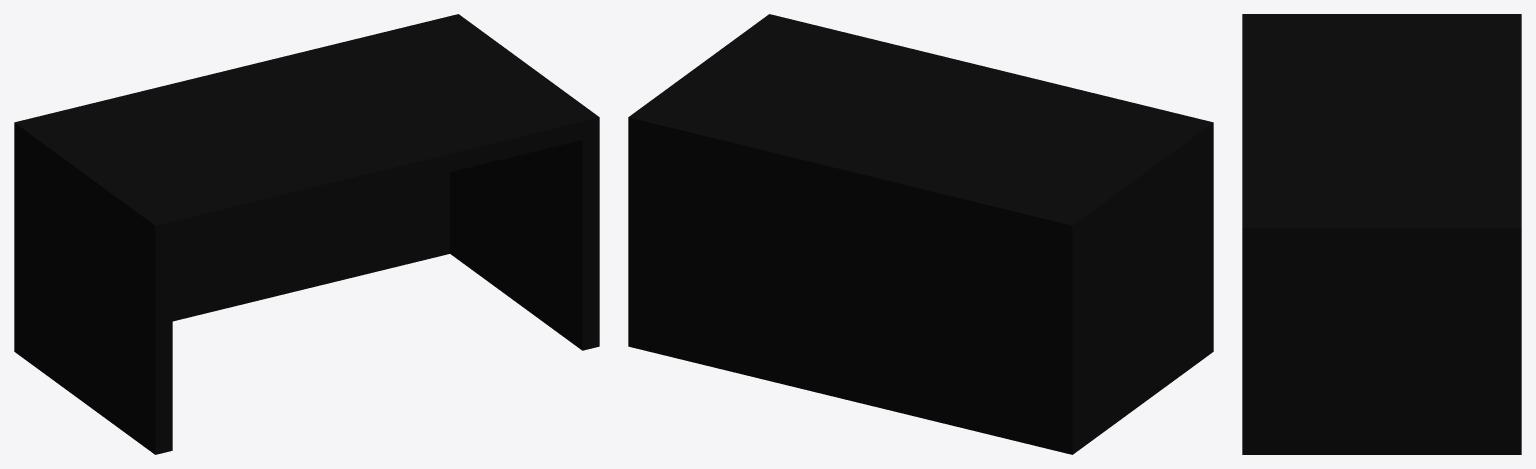
The model's file is Itr_Wardrobe2_Body1_05.FBX.
3 renders of one model, left to right at view 1: azimuth 30°, elevation 25°; view 2: azimuth 150°, elevation 25°; view 3: azimuth 270°, elevation 25°, orthographic.
Parts seen in each view (by area): view 1: Itr_Wardrobe2_Body1_05; view 2: Itr_Wardrobe2_Body1_05; view 3: Itr_Wardrobe2_Body1_05.
Part boxes in pixels (<box>): Itr_Wardrobe2_Body1_05: <box>14,14,599,454</box>; Itr_Wardrobe2_Body1_05: <box>628,14,1213,454</box>; Itr_Wardrobe2_Body1_05: <box>1242,14,1521,454</box>.
Size of the model in its own units: 39.14 by 19.29 by 21.54.
